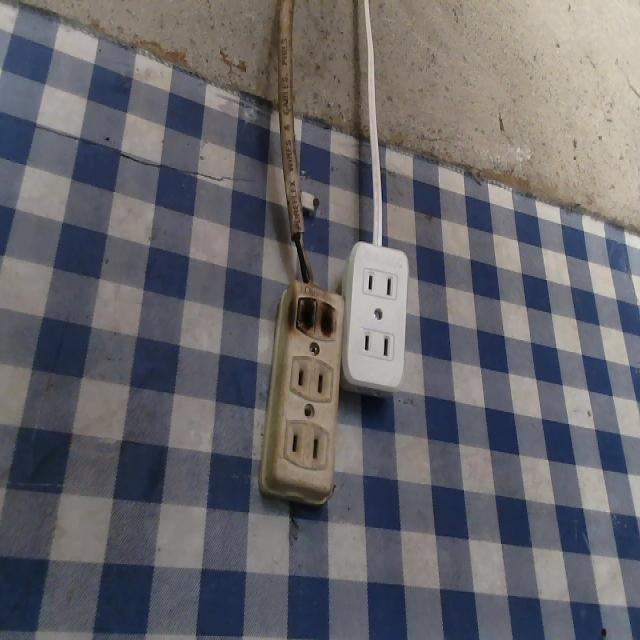-: (285, 288, 342, 345)
